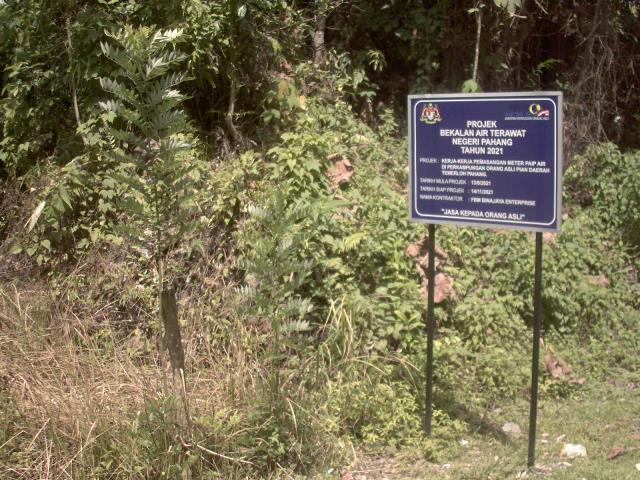ads_sign: (400, 81, 571, 240)
